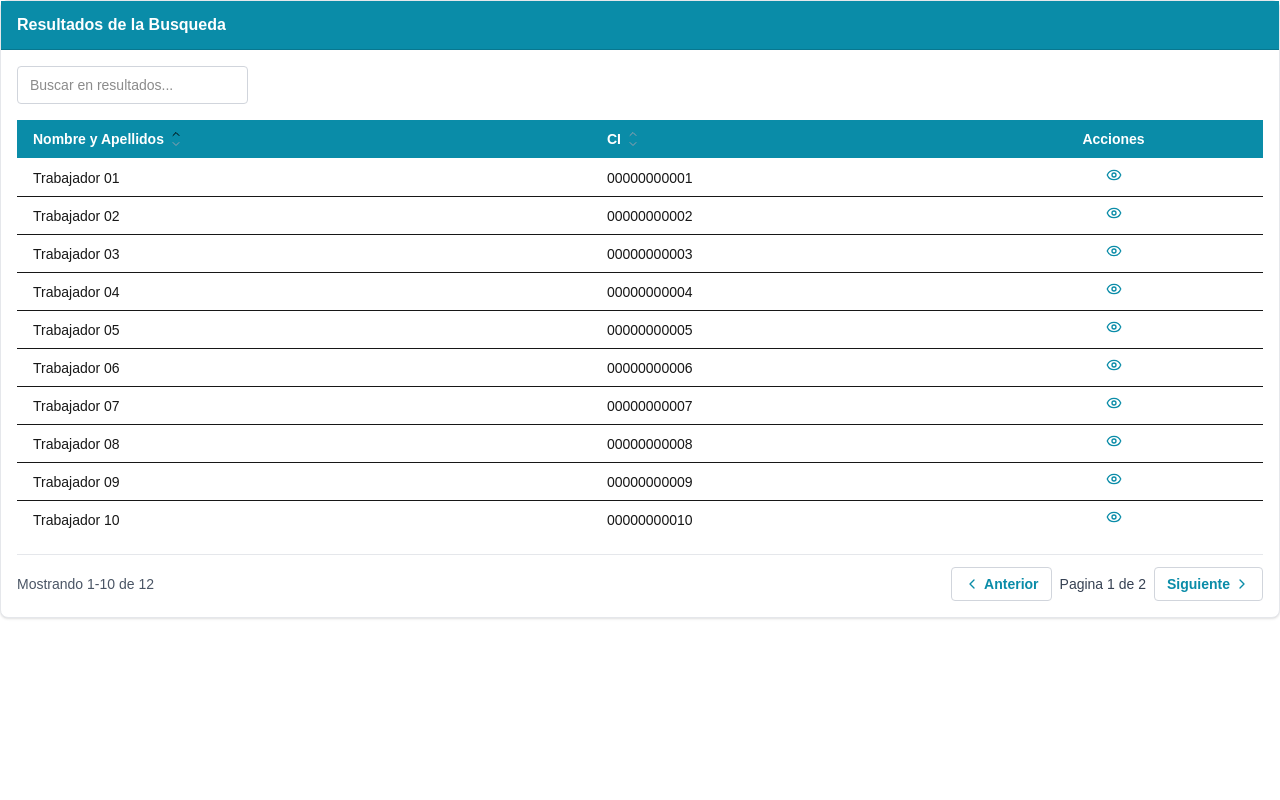
Test case: ResultadosTrabajadores pagination › paginates workers and allows switching pages
Expected: the text "Trabajador 01" is shown, [17,158,591,196]
Expected: the text "Trabajador 11" is not shown
Click the button "Siguiente" at [1208, 584], box [1154,567,1263,601]
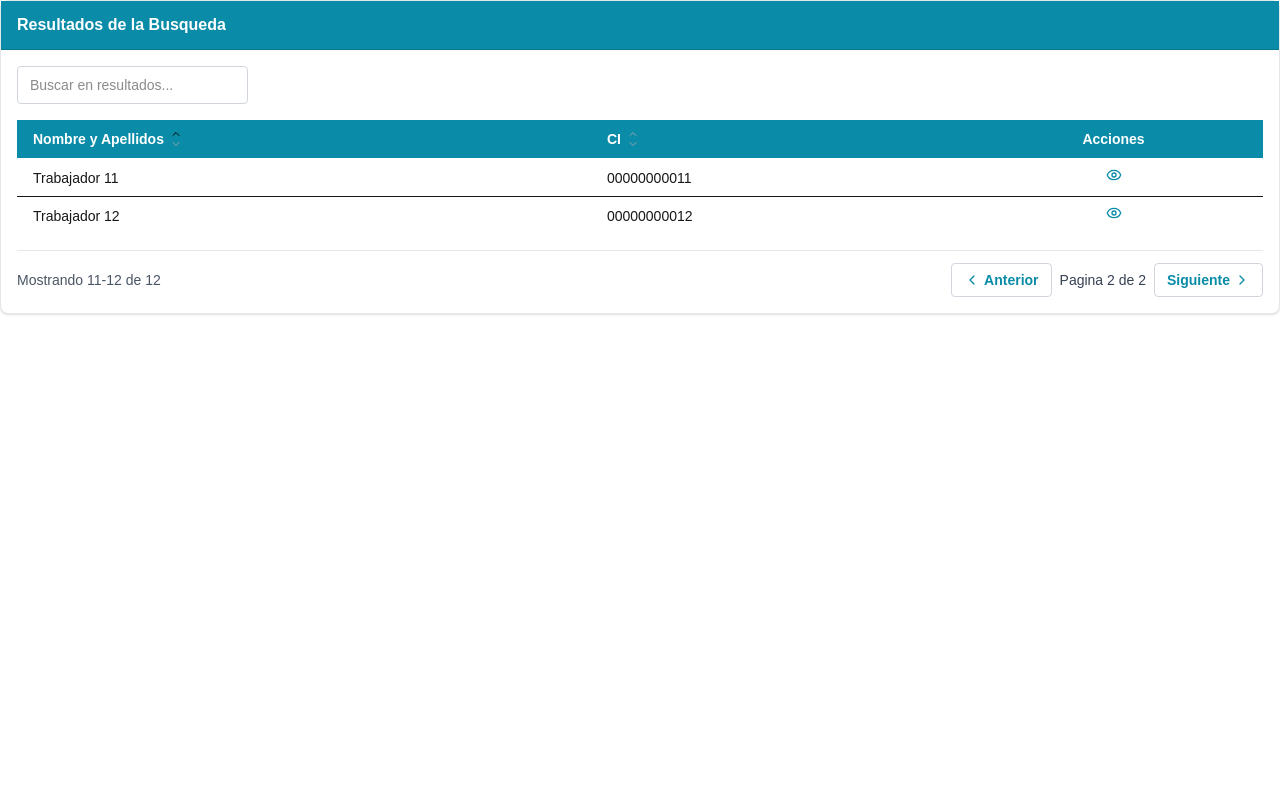
Expected: the text "Trabajador 11" is shown, [17,158,591,196]
Expected: the text "Trabajador 01" is gone
Expected: the text "Mostrando 11-12 de 12" is shown, [17,270,161,290]
Click the button "Anterior" at [1001, 280], box [951,263,1052,297]
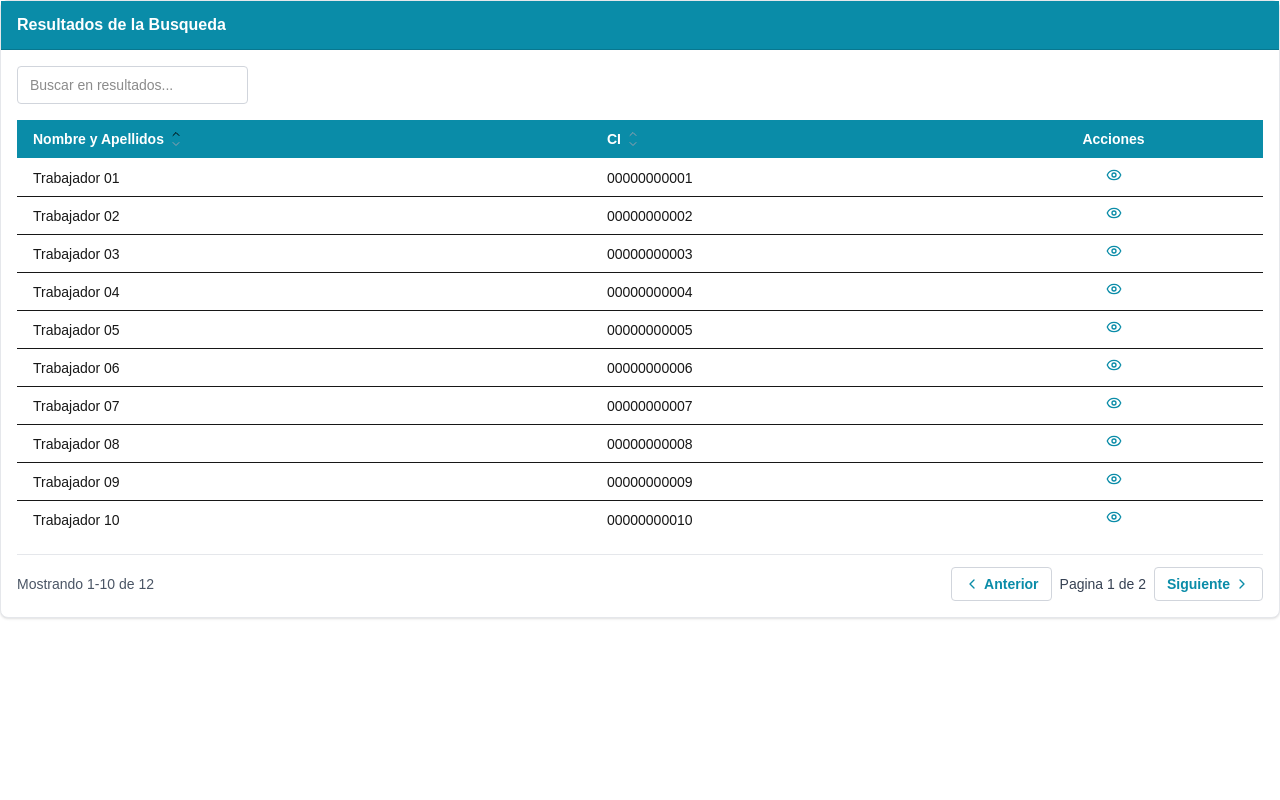
Expected: the text "Trabajador 01" is shown, [17,158,591,196]
Expected: the text "Trabajador 11" is gone
Expected: the text "Pagina 1 de 2" is shown, [1060,574,1146,594]
